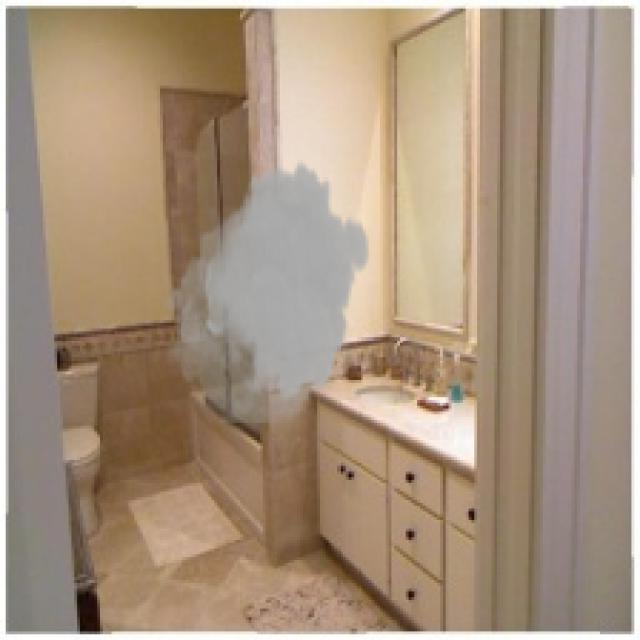smoke: (160, 157, 371, 423)
